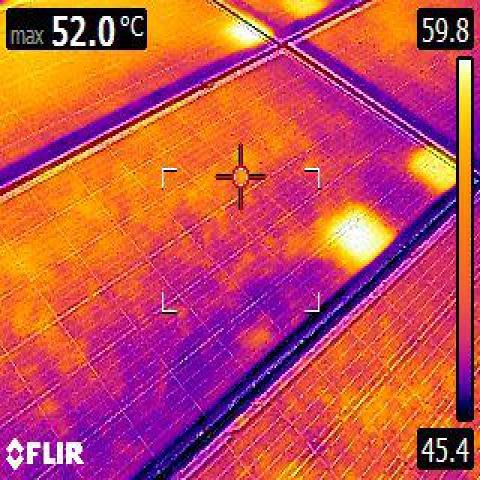fault: (346, 220, 382, 260), (419, 150, 450, 191)
